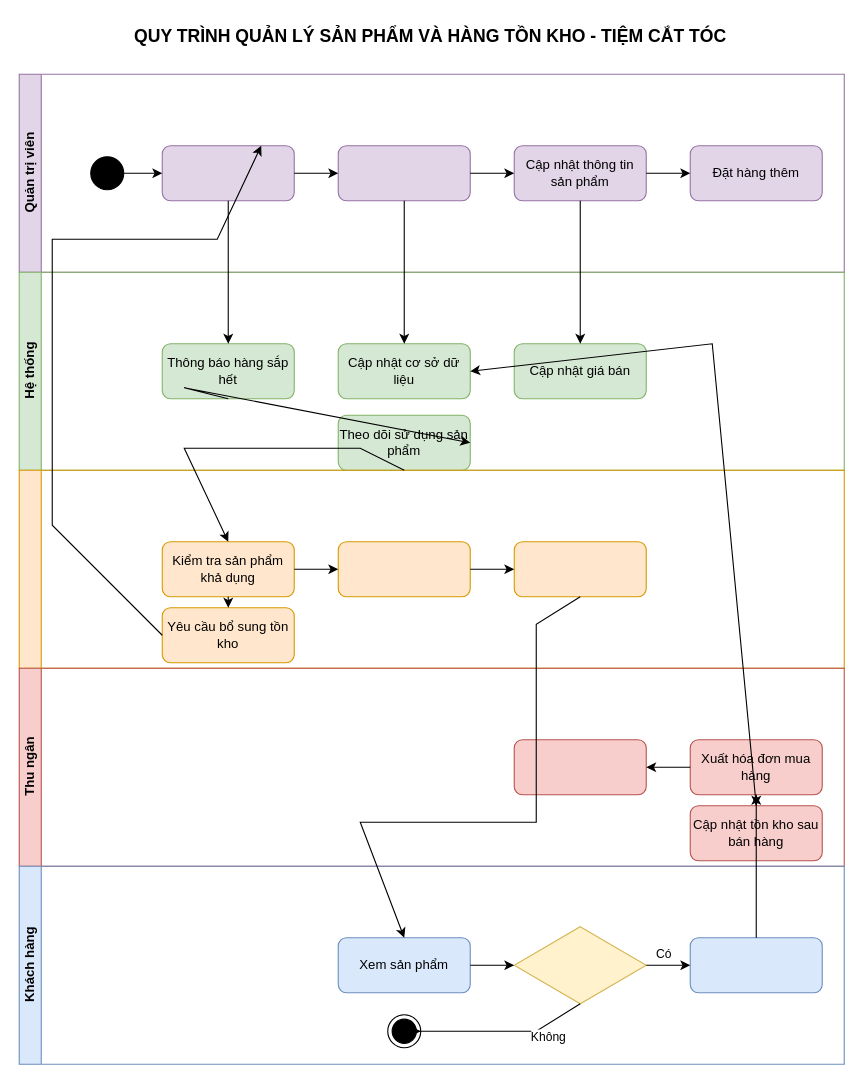
Some shapes in this 864 by 1084 pixel diagram are drawn without their labels. The box of each missing label's shape, as (x1, y1, x2, y2) in pixels:
Giới thiệu sản phẩm cho khách: (513, 541, 646, 597)
Kiểm tra tồn kho: (161, 145, 294, 201)
Quyết định mua hàng?: (513, 926, 646, 1004)
Sử dụng sản phẩm cho dịch vụ: (337, 541, 470, 597)
Thanh toán: (689, 937, 822, 993)
Thêm sản phẩm mới: (337, 145, 470, 201)
Thợ cắt tóc: (18, 469, 844, 668)
Xử lý bán sản phẩm: (513, 739, 646, 795)
